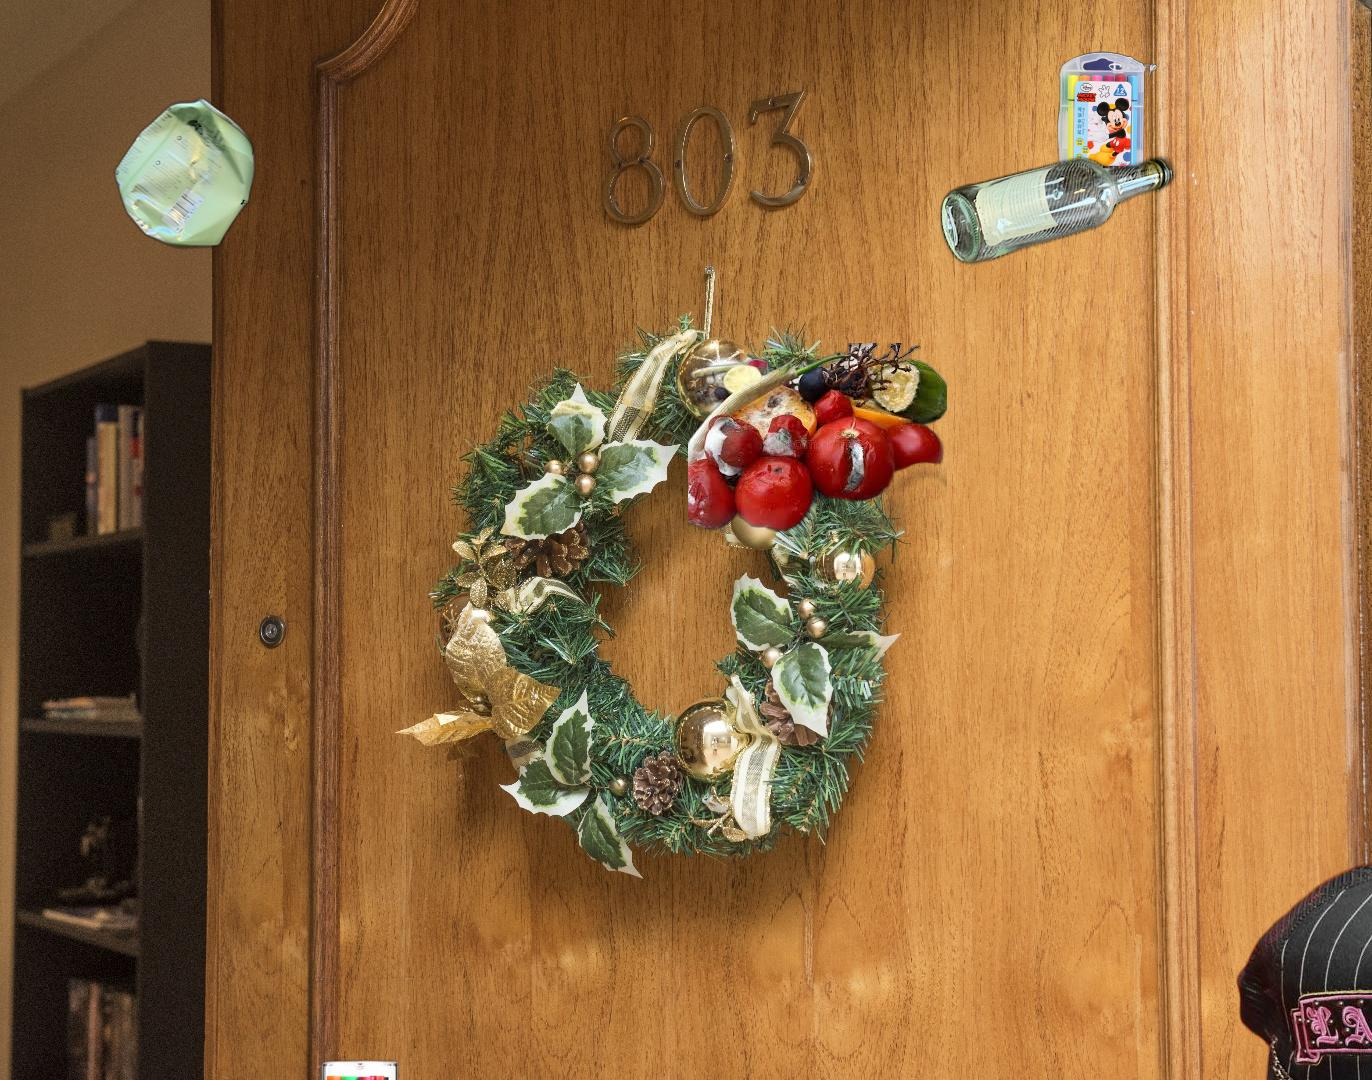biological: (688, 343, 947, 537)
clothes: (1235, 855, 1372, 1080)
glass: (935, 153, 1179, 269)
metal-cans: (110, 92, 259, 255)
penholder: (1055, 49, 1160, 188), (318, 1058, 403, 1080)
